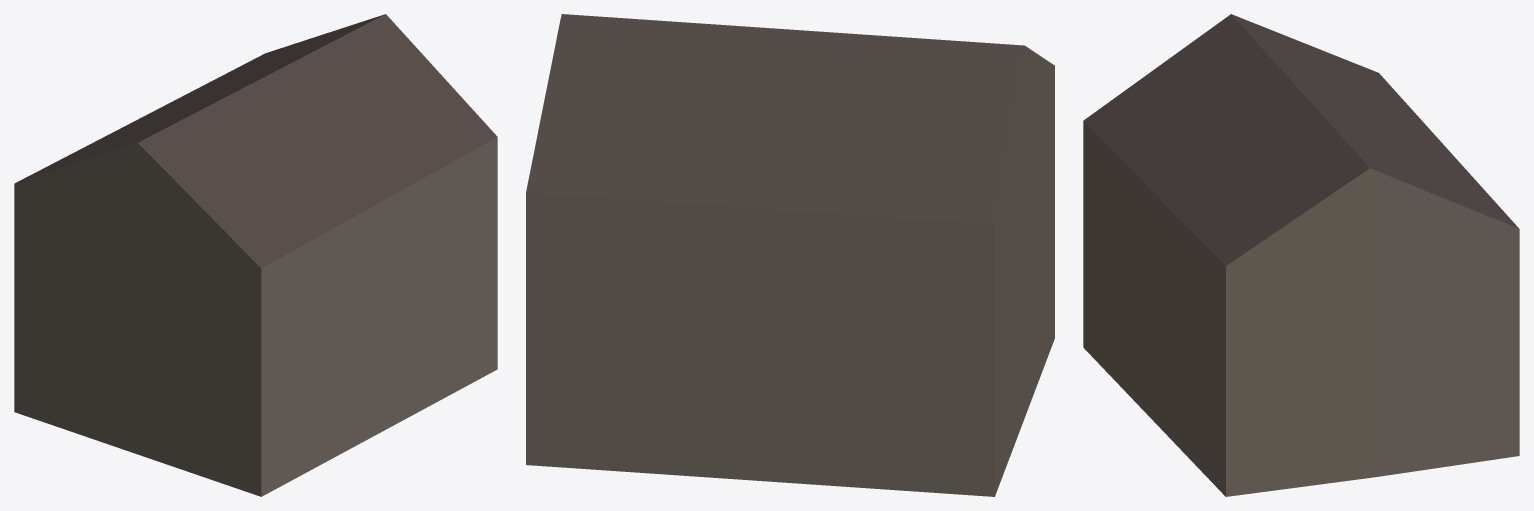
The picture shows the model from 3 angles, left to right: view 1: azimuth 30°, elevation 25°; view 2: azimuth 150°, elevation 25°; view 3: azimuth 270°, elevation 25°; orthographic projection. The views are drawn at different scales.
Parts seen in each view (by area): view 1: HP-w1198645091; view 2: HP-w1198645091; view 3: HP-w1198645091.
Part boxes in pixels (x1=…): HP-w1198645091: x1=14, y1=14, x2=497, y2=496; HP-w1198645091: x1=526, y1=14, x2=1054, y2=496; HP-w1198645091: x1=1083, y1=14, x2=1519, y2=496.
Size of the model in its own units: 11.18 by 8.19 by 10.46.
